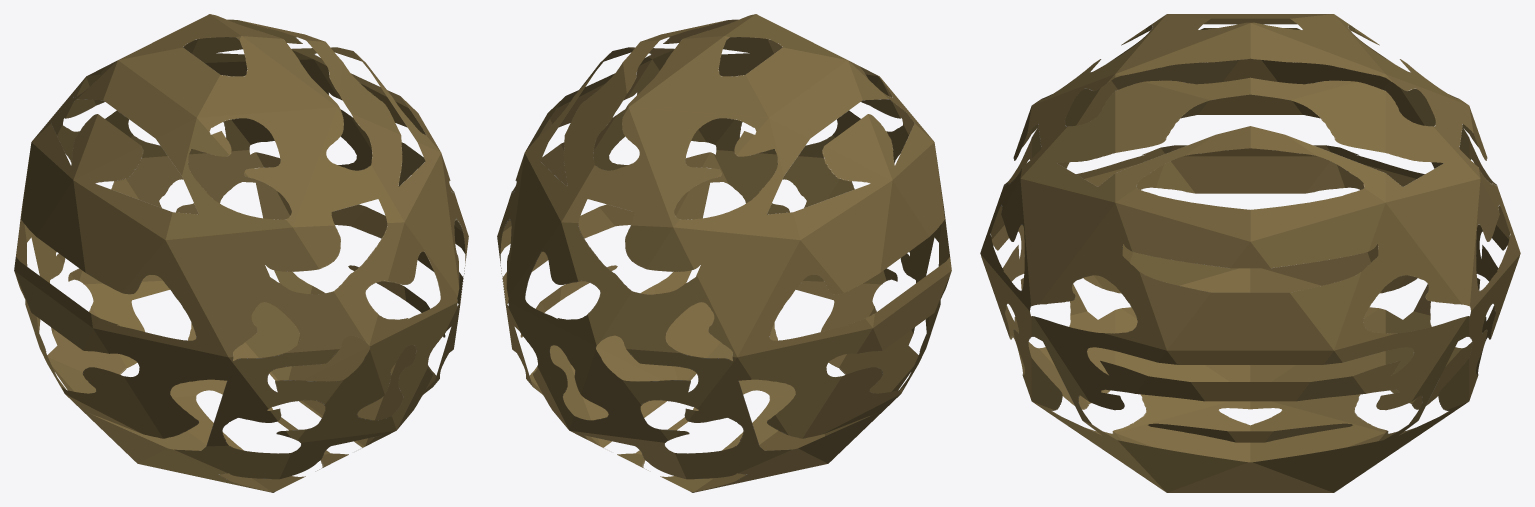
File: desertpoussiere.fbx
3 renders of one model, left to right at view 1: azimuth 30°, elevation 25°; view 2: azimuth 150°, elevation 25°; view 3: azimuth 270°, elevation 25°, orthographic. The views are drawn at different scales.
Visible parts, largest first — view 1: Icosphere; view 2: Icosphere; view 3: Icosphere.
Boxes of the visible parts, x1,y1,x2,y2 form: Icosphere: [14, 14, 468, 492]; Icosphere: [497, 14, 951, 492]; Icosphere: [980, 14, 1520, 492].
Bounding box in the file's own units: 190 × 210 × 224.
Materials: 1 (1 with a texture image).
